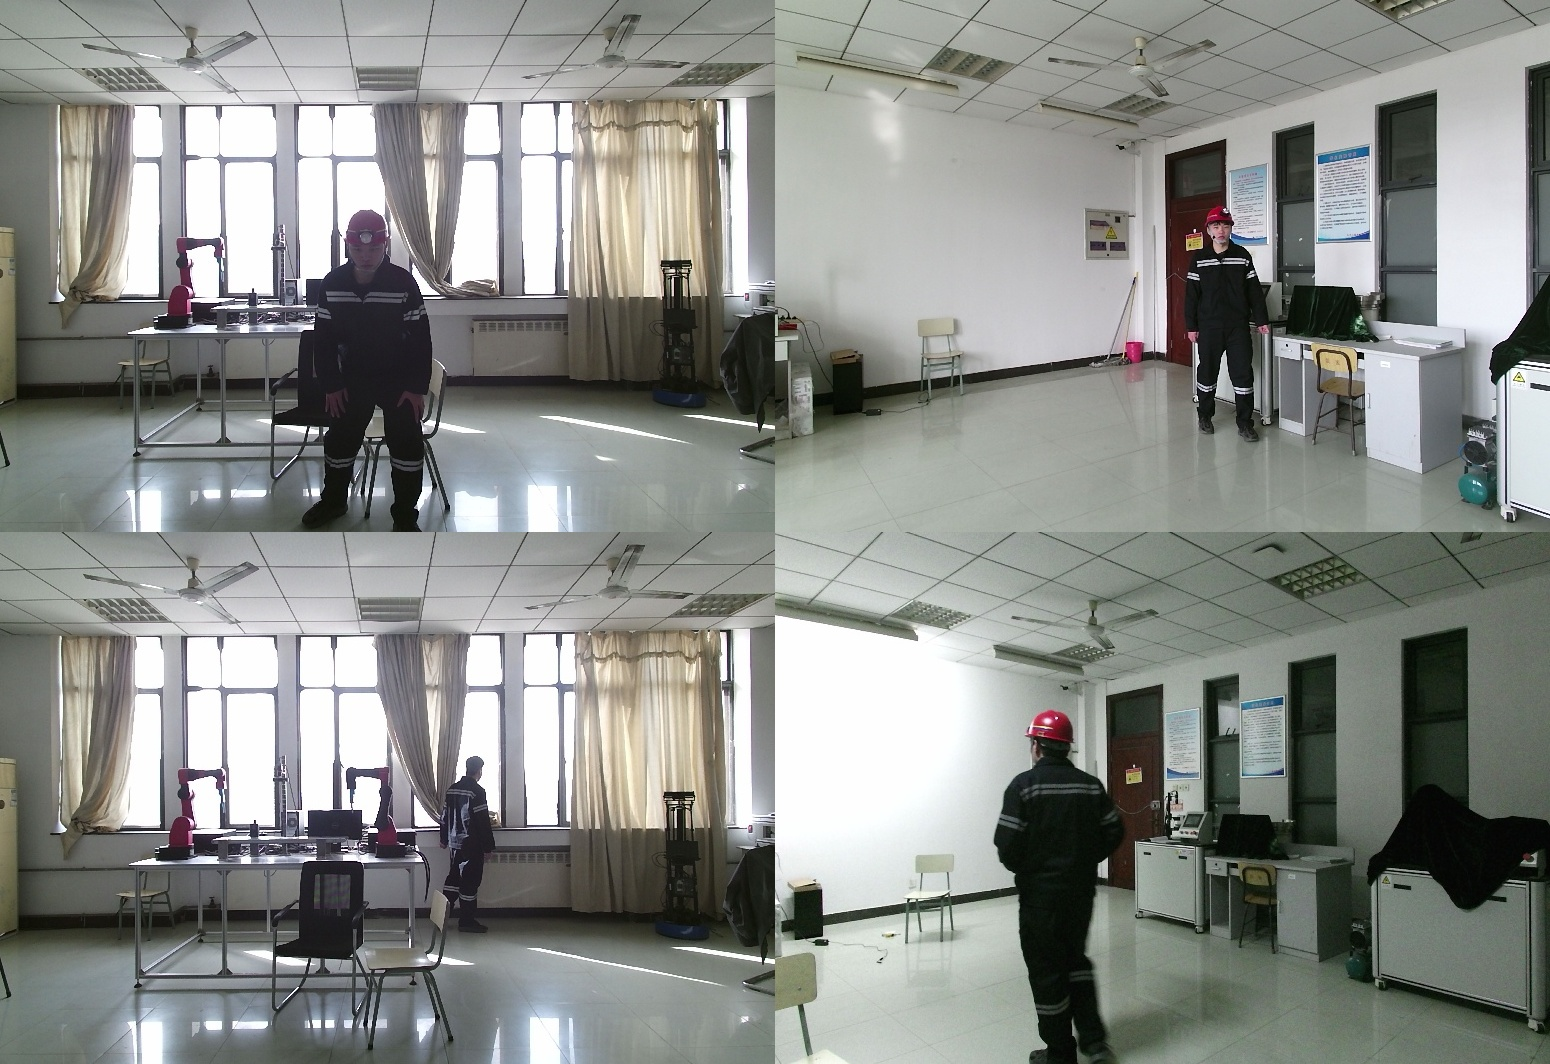person: (995, 709, 1140, 1064), (308, 211, 451, 532), (1187, 207, 1275, 440), (442, 757, 500, 944)
